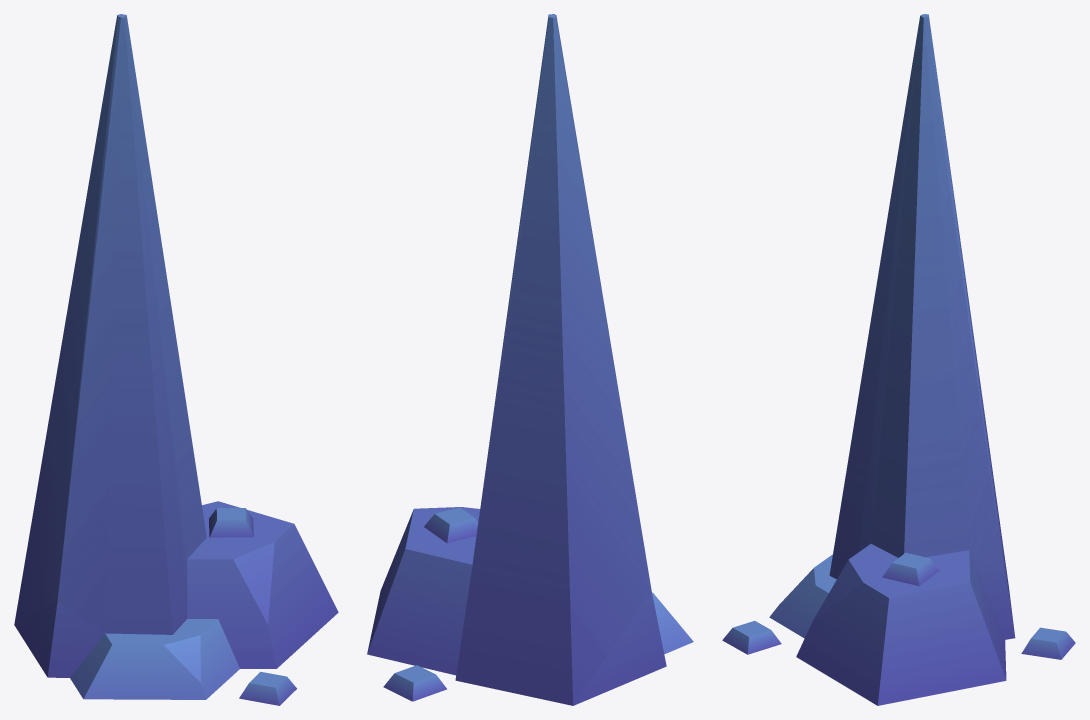
The model's file is pedra pontuda 1 azul.glb.
3 renders of one model, left to right at view 1: azimuth 30°, elevation 25°; view 2: azimuth 150°, elevation 25°; view 3: azimuth 270°, elevation 25°, orthographic. The views are drawn at different scales.
Parts seen in each view (by area): view 1: rock-a; view 2: rock-a; view 3: rock-a.
Boxes of the visible parts, x1,y1,x2,y2 form: rock-a: (14, 14, 338, 705); rock-a: (367, 14, 693, 705); rock-a: (722, 14, 1075, 705).
Bounding box in the file's own units: 0.5552 × 1.16 × 0.6216.
Materials: 1 (1 with a texture image).
